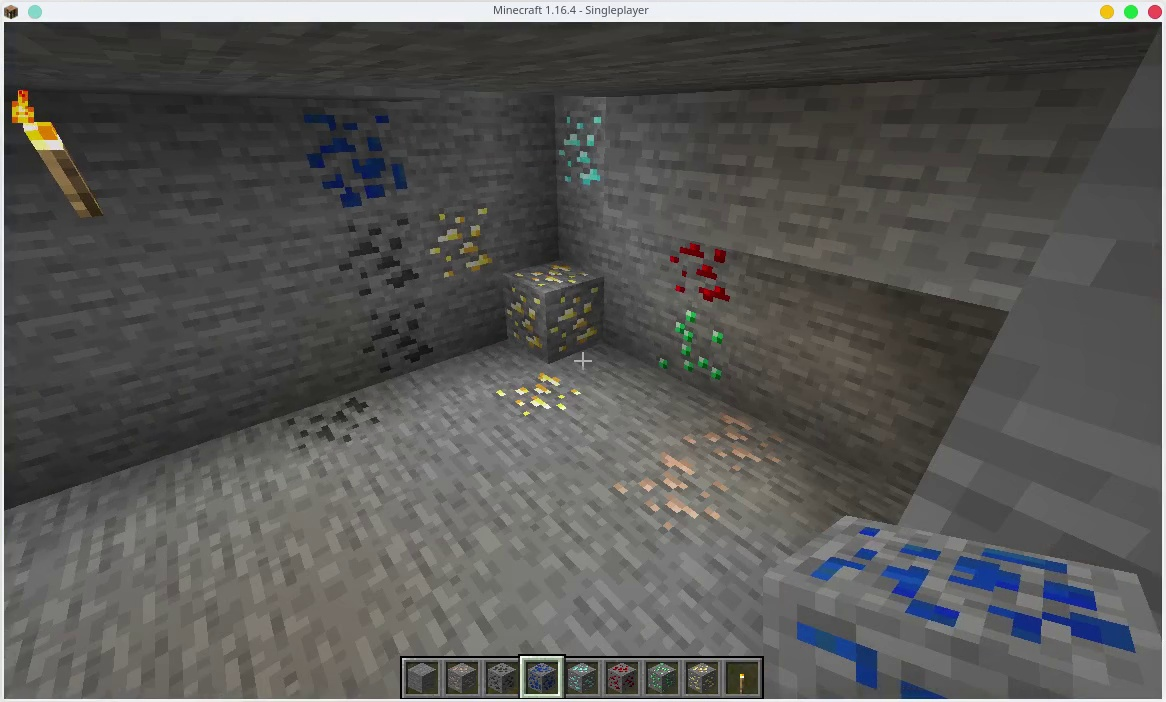gold: (509, 264, 603, 361), (491, 375, 593, 416), (432, 213, 491, 278), (687, 663, 718, 693)
